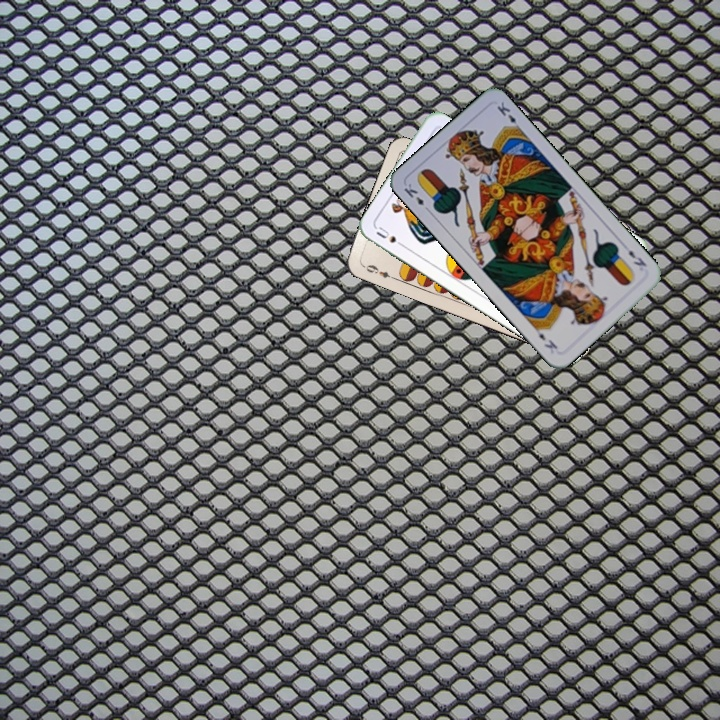E9: (358, 260, 397, 282)
EK: (400, 179, 433, 215), (624, 246, 649, 269)
SU: (372, 222, 409, 250)
